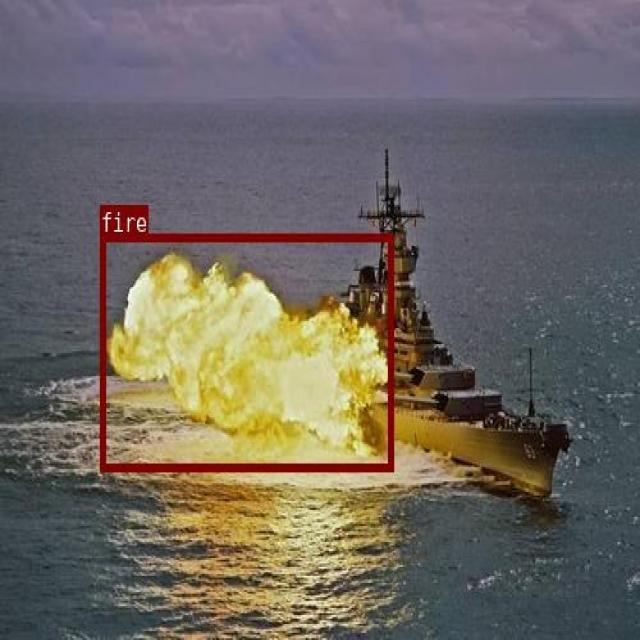fire: (100, 233, 393, 471)
